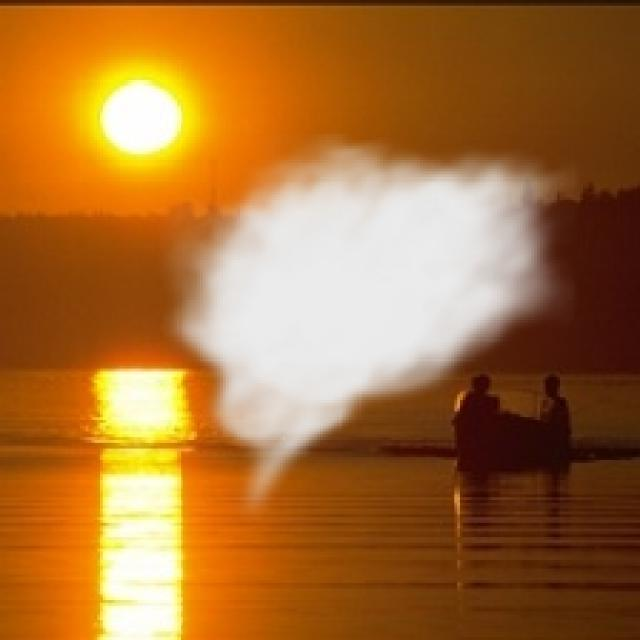Smoke: (157, 131, 580, 523)
